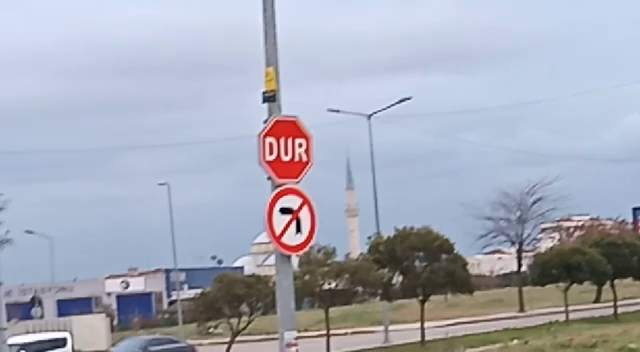no_left: (261, 183, 319, 260)
stop: (253, 111, 317, 187)
